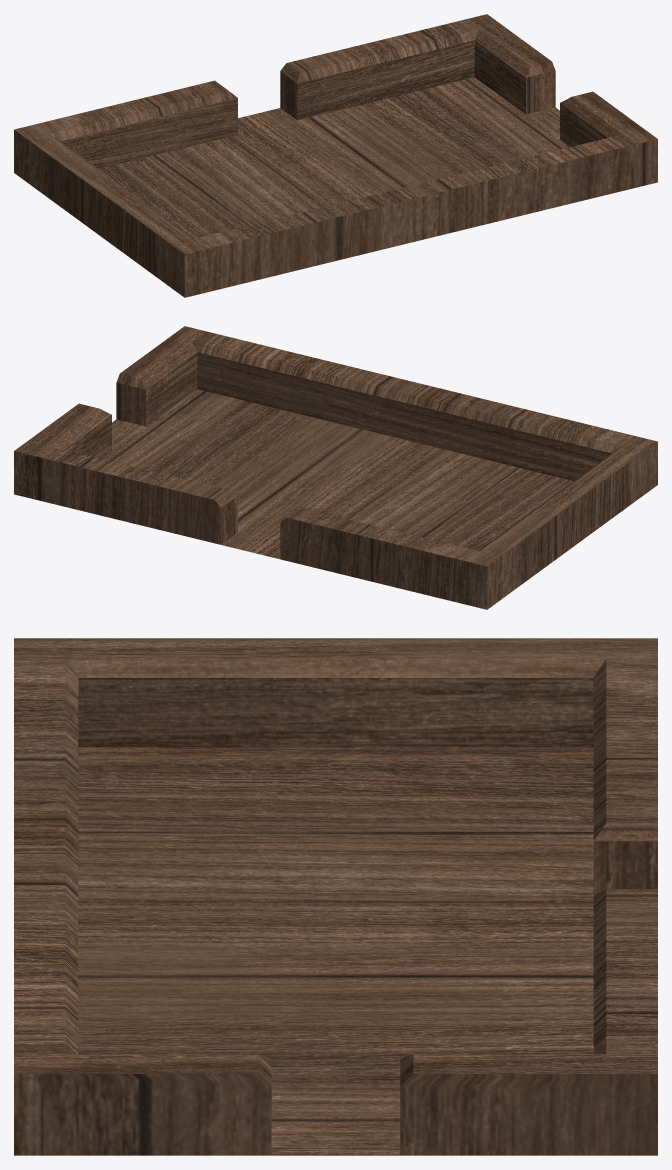
The model's file is room6.fbx.
The picture shows the model from 3 angles, top to bottom: view 1: azimuth 30°, elevation 25°; view 2: azimuth 150°, elevation 25°; view 3: azimuth 270°, elevation 25°; orthographic projection. The views are drawn at different scales.
Parts seen in each view (by area): view 1: Room07Mesh; view 2: Room07Mesh; view 3: Room07Mesh.
Part boxes in pixels (x1,y1,x2,y2): Room07Mesh: (14,14,657,297); Room07Mesh: (14,326,657,609); Room07Mesh: (14,638,657,1155).
Size of what is drawn, in the model's own units: 80 by 7 by 50.
